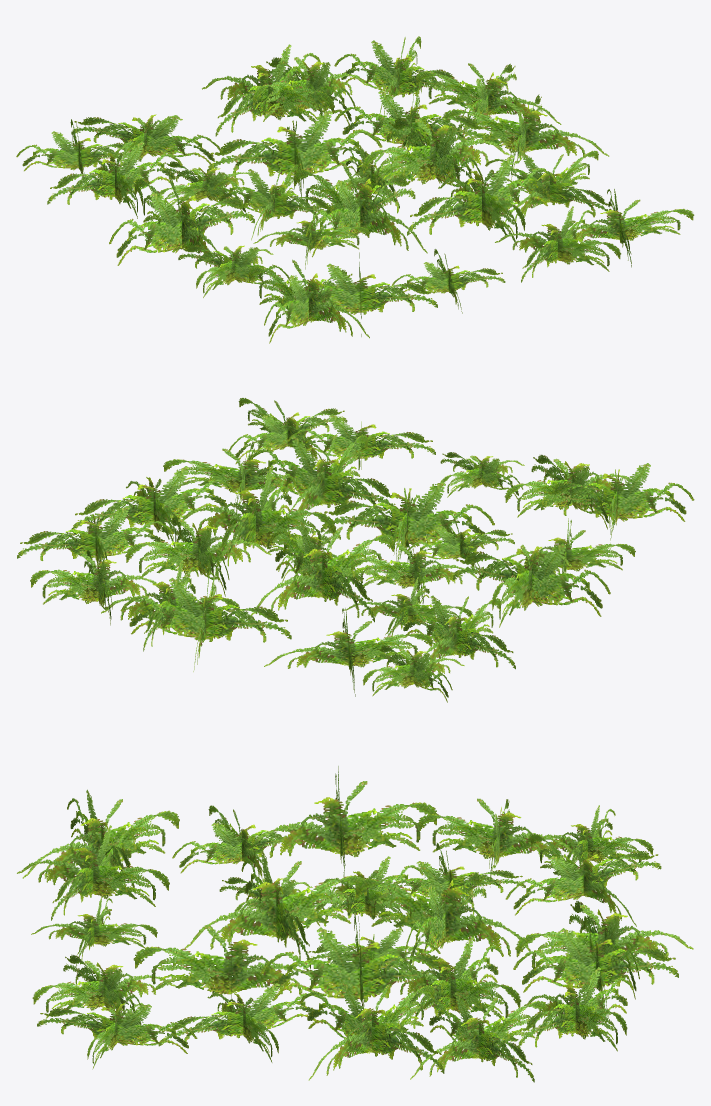
File: fern-patch.glb
3 views of the same model, one above another, from view 1: azimuth 30°, elevation 25°; view 2: azimuth 150°, elevation 25°; view 3: azimuth 270°, elevation 25° (orthographic). The views are drawn at different scales.
Bounding box in the file's own units: 5.49 × 0.732 × 5.74.
Materials: 1 (1 with a texture image).
